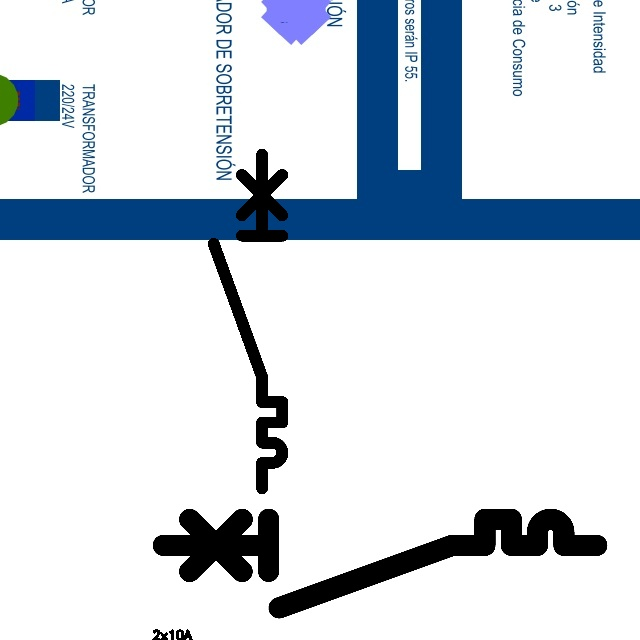interruptor_termomagnetico: (152, 508, 608, 619), (205, 146, 291, 497)
